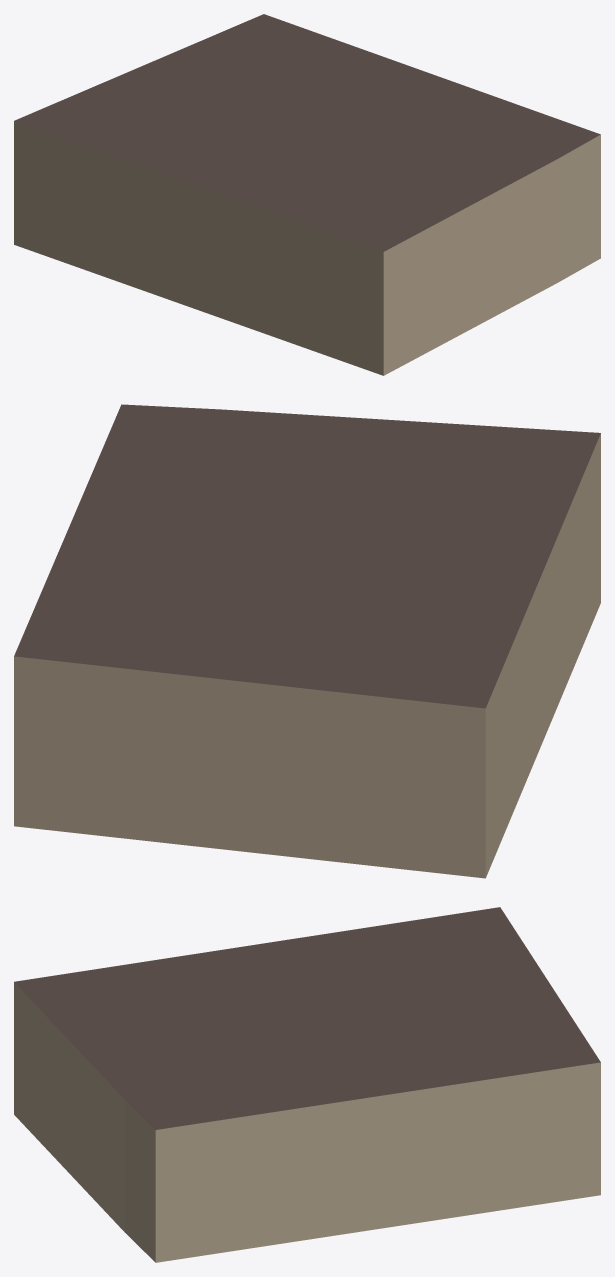
The picture shows the model from 3 angles, top to bottom: view 1: azimuth 30°, elevation 25°; view 2: azimuth 150°, elevation 25°; view 3: azimuth 270°, elevation 25°; orthographic projection. The views are drawn at different scales.
Visible parts, largest first — view 1: HP-w1196417815; view 2: HP-w1196417815; view 3: HP-w1196417815.
Boxes of the visible parts, x1,y1,x2,y2 form: HP-w1196417815: [14, 14, 600, 375]; HP-w1196417815: [14, 404, 600, 878]; HP-w1196417815: [14, 907, 600, 1262].
Size of the model in its own units: 32.4 by 9 by 36.04.
